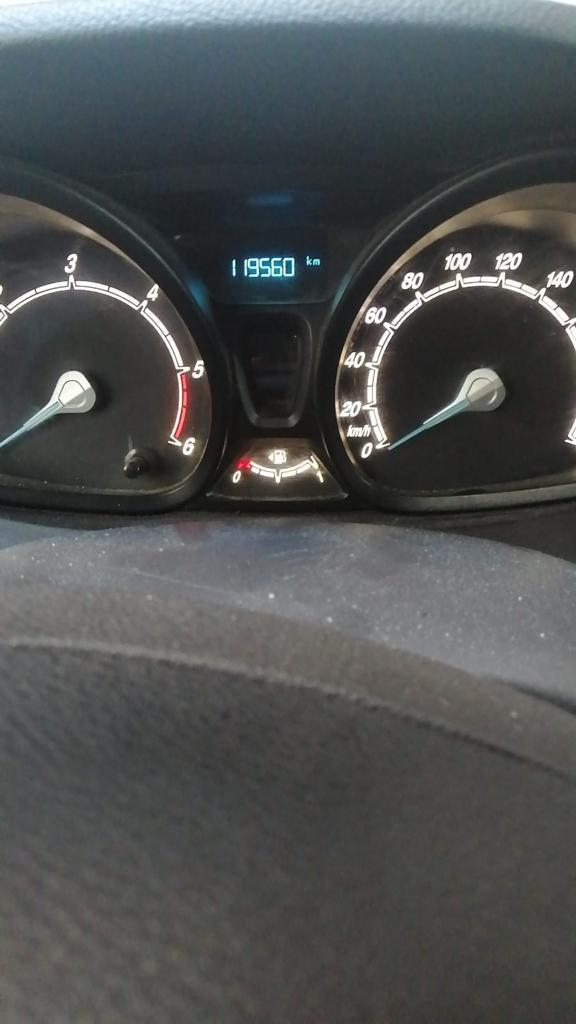0: (282, 256, 296, 277)
1: (229, 257, 237, 277), (241, 257, 246, 277)
5: (259, 256, 270, 277)
6: (270, 255, 282, 277)
9: (247, 256, 259, 278)
X: (304, 254, 312, 266), (312, 257, 321, 266)
odometer: (188, 241, 345, 309)
